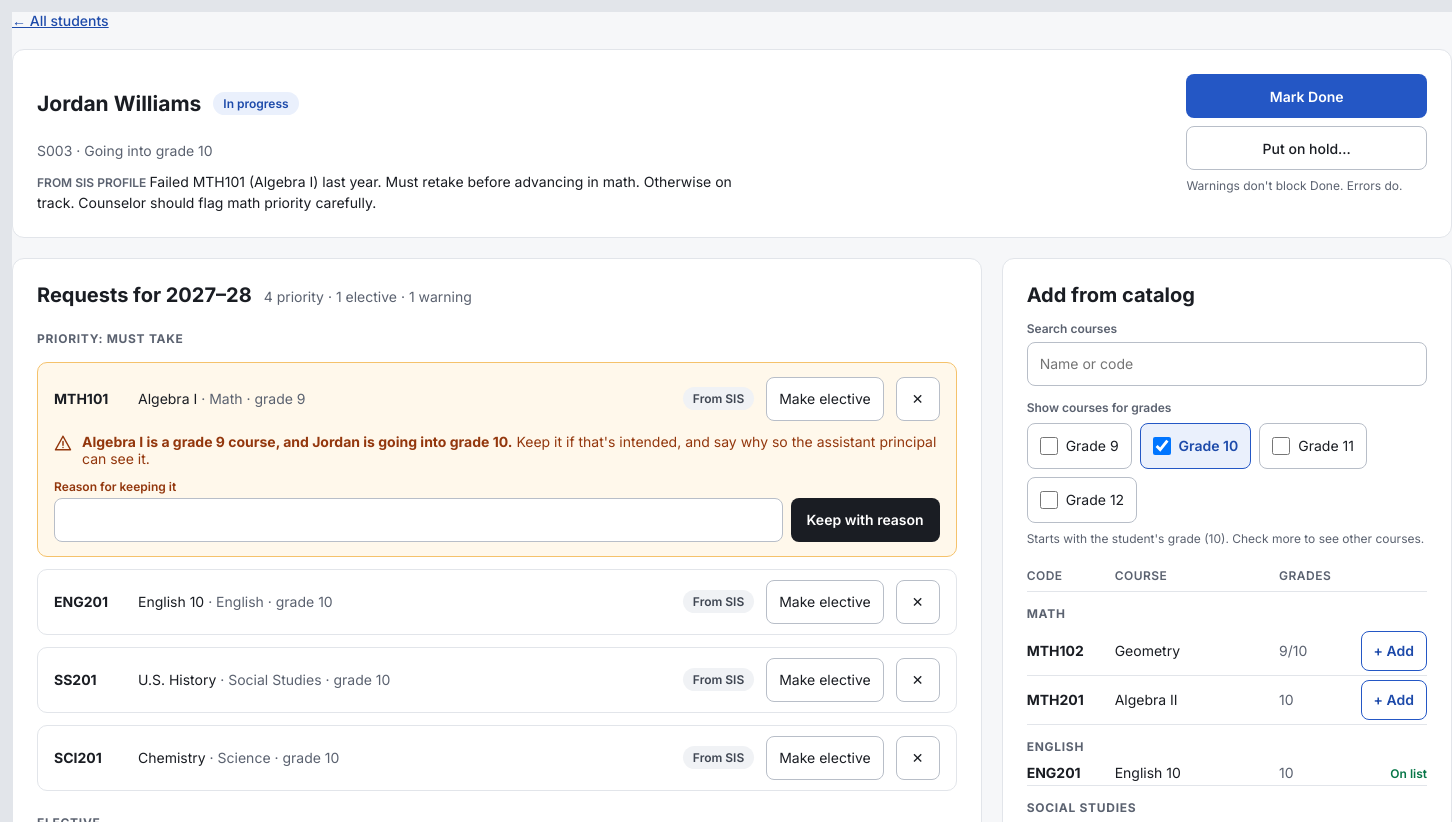
Test: Make elective switches that request by its ID and keeps its reason (S7)
Click the 1st button "Make elective" at point(825, 399), box top-left (766, 377), bottom-right (884, 421)
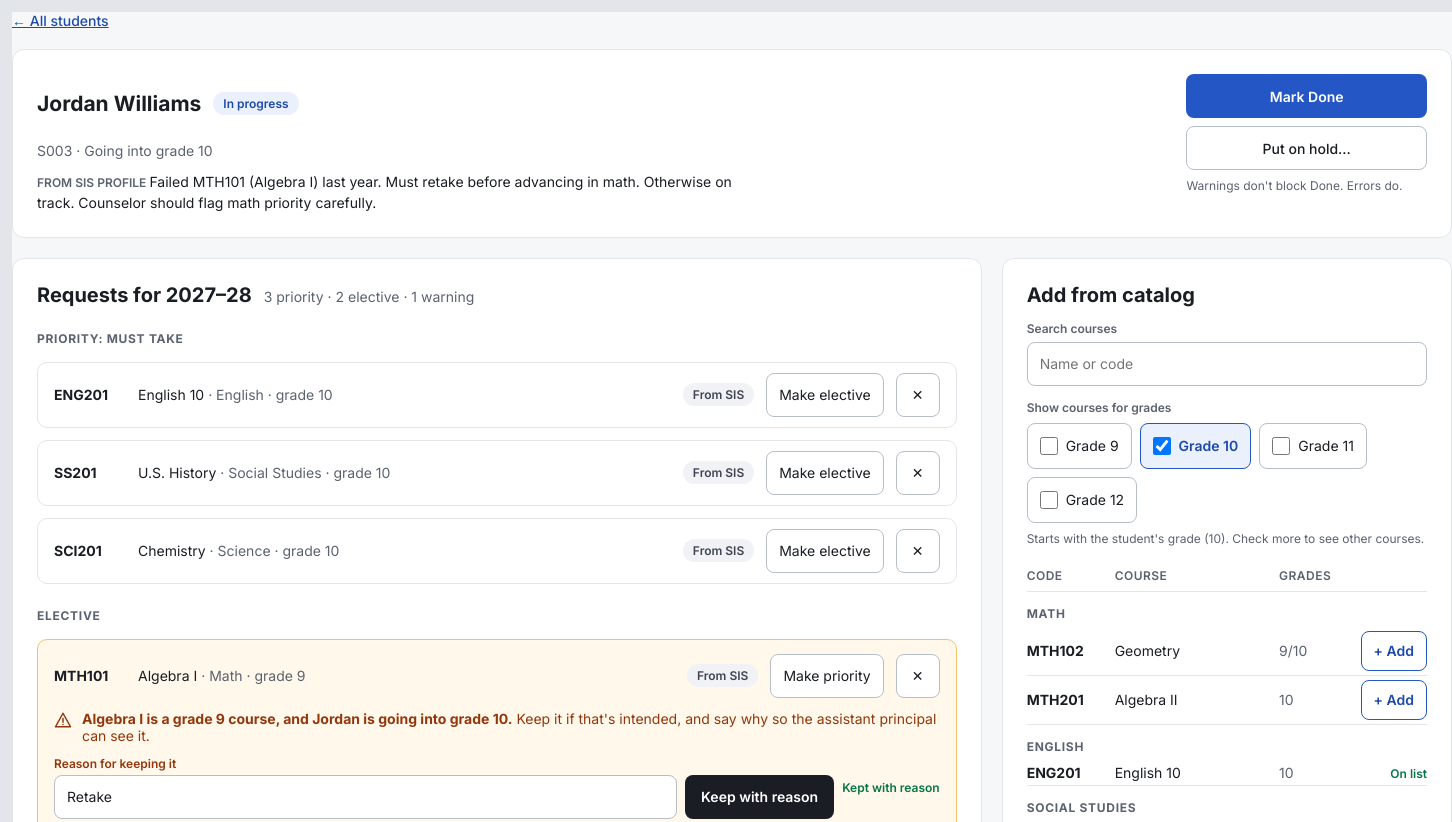
Expected: the button "Make priority" is shown, top-left (770, 654), bottom-right (884, 698)
Expected: the field labelled "Reason for keeping it" holds "Retake", top-left (54, 775), bottom-right (677, 819)
